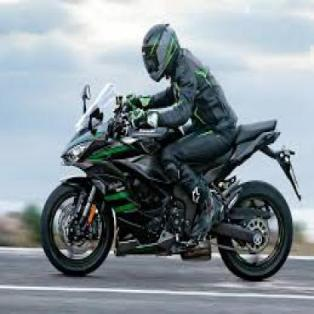Motocicleta: (39, 101, 296, 282)
